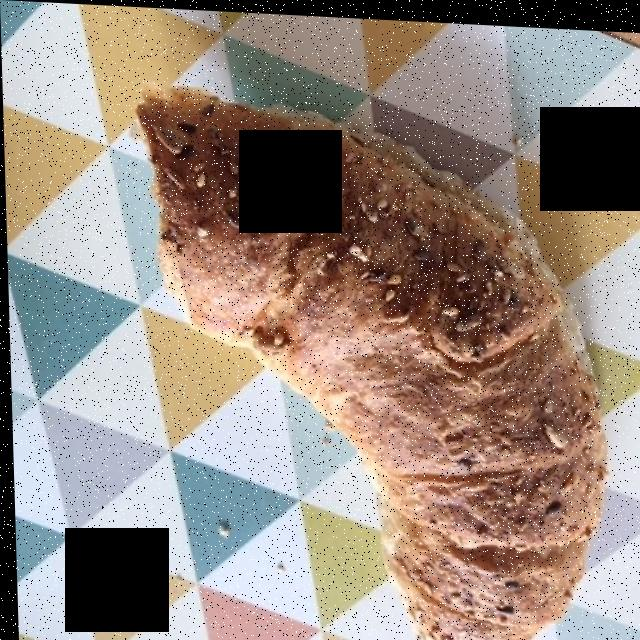croissant-wholegrain: (150, 96, 597, 640)
